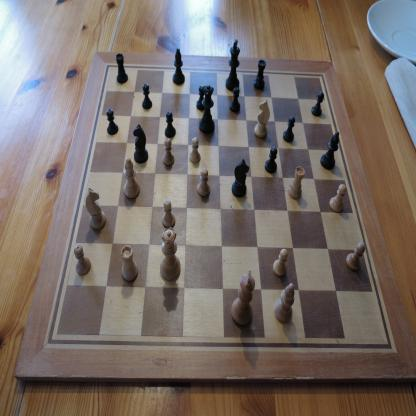black-bishop: (320, 131, 340, 170), (172, 47, 185, 85)
black-king: (226, 38, 240, 92)
black-knight: (231, 158, 250, 198), (133, 124, 149, 164)
black-pawn: (264, 146, 278, 174), (282, 116, 296, 142), (311, 91, 324, 117), (106, 109, 119, 135), (164, 111, 176, 138), (229, 87, 240, 113), (142, 83, 152, 110), (196, 85, 204, 111)
black-queen: (198, 85, 215, 134)
black-rook: (253, 59, 267, 90), (115, 53, 128, 84)
white-bishop: (273, 283, 295, 323), (123, 156, 140, 199)
white-king: (231, 269, 255, 326)
white-knight: (85, 187, 107, 231), (254, 98, 270, 138)
white-pawn: (346, 242, 366, 272), (74, 245, 92, 276), (329, 184, 347, 212), (272, 248, 288, 278), (197, 168, 211, 198), (162, 199, 176, 229), (162, 138, 175, 167), (189, 137, 201, 164)
white-queen: (159, 227, 181, 281)
white-rook: (121, 245, 138, 282), (288, 166, 306, 200)
